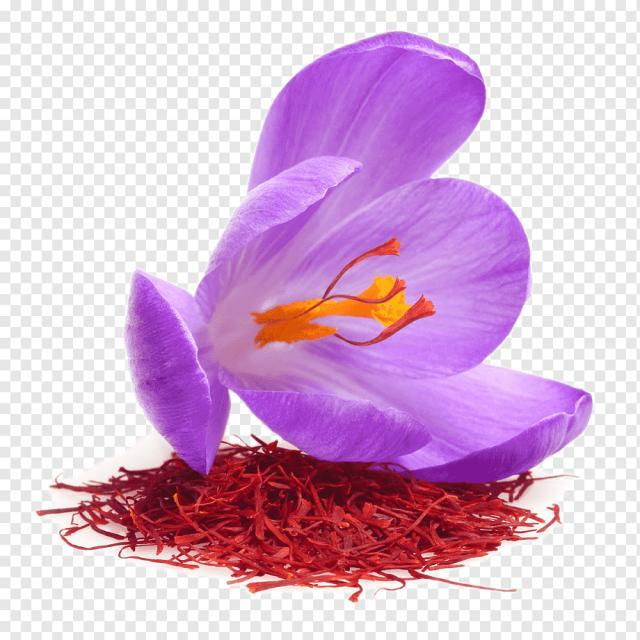Flower: (218, 147, 521, 474)
stigma: (322, 229, 404, 284)
